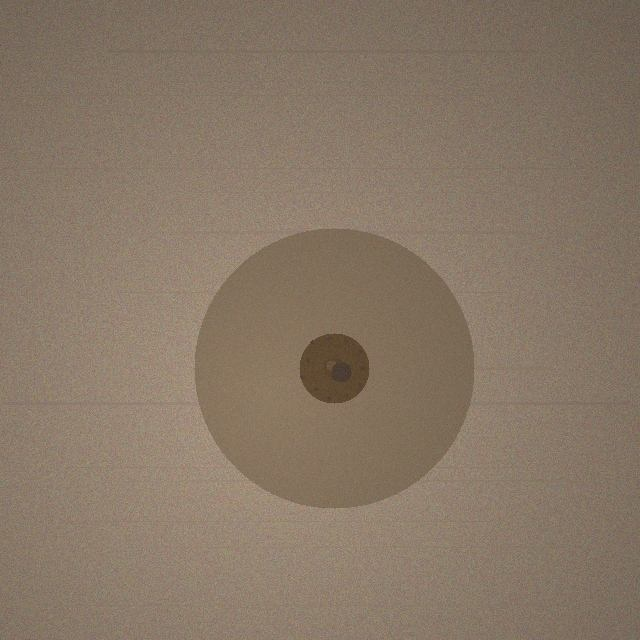cold_weld: (194, 228, 474, 508)
